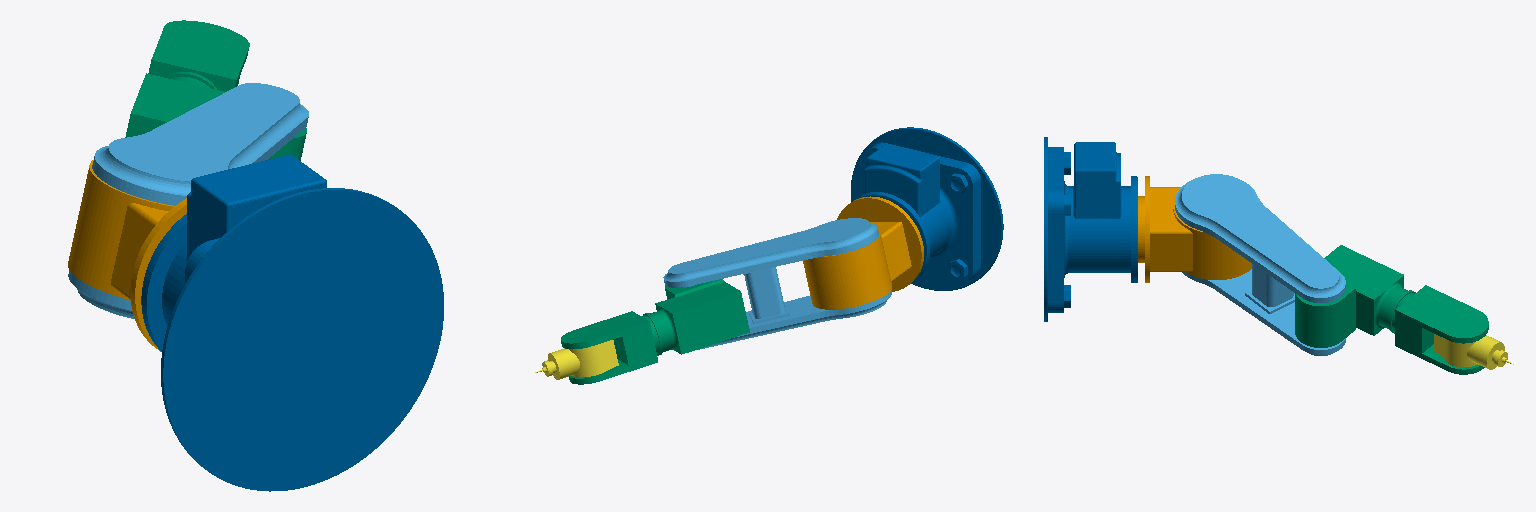
The robot description file, URDF, robot "Articulated":
<?xml version='1.0' encoding='utf-8'?>
<robot name="Articulated">
    <link name="link_1">
        <inertial>
            <origin xyz="3.495344808922743e-08 9.880377430014102e-08 0.1130756849498058" rpy="0.0 -0.0 0.0" />
            <mass value="113.94005650792363" />
            <inertia ixx="2.220629965866795" iyy="2.4065409609491546" izz="0.8594958574300129" ixy="-0.04817974237801331" iyz="-5.555259629943701e-07" ixz="-2.643146005475136e-07" />
        </inertial>
        <visual name="link_1_visual">
            <origin xyz="-1.5341806263568187e-17 1.3051466232121905e-17 -0.10000000000000007" rpy="1.5707963267948966 5.949048110932312e-17 -2.9025001372209416" />
            <geometry>
                <mesh filename="meshes/link_1.stl" scale="0.001 0.001 0.001" />
            </geometry>
        </visual>
        <collision name="link_1_collision">
            <origin xyz="-1.5341806263568187e-17 1.3051466232121905e-17 -0.10000000000000007" rpy="1.5707963267948966 5.949048110932312e-17 -2.9025001372209416" />
            <geometry>
                <mesh filename="meshes/link_1.stl" scale="0.001 0.001 0.001" />
            </geometry>
        </collision>
    </link>
    <link name="link_2">
        <inertial>
            <origin xyz="0.12394880432889308 -0.12010550092443957 0.12337011299501326" rpy="0.0 -0.0 0.0" />
            <mass value="121.82315674461331" />
            <inertia ixx="3.069328897167779" iyy="3.9094186798659414" izz="4.769499718861205" ixy="2.080406694264372" iyz="0.5105456213817852" ixz="-0.4450992457085139" />
        </inertial>
        <visual name="link_2_visual">
            <origin xyz="-0.021313890000000037 0.0 0.08743980000000003" rpy="-1.758656259148855 -0.14877926232668687 0.9085276867799419" />
            <geometry>
                <mesh filename="meshes/link_2.stl" scale="0.001 0.001 0.001" />
            </geometry>
        </visual>
        <collision name="link_2_collision">
            <origin xyz="-0.021313890000000037 0.0 0.08743980000000003" rpy="-1.758656259148855 -0.14877926232668687 0.9085276867799419" />
            <geometry>
                <mesh filename="meshes/link_2.stl" scale="0.001 0.001 0.001" />
            </geometry>
        </collision>
    </link>
    <link name="link_2-3">
        <inertial>
            <origin xyz="-0.013743170672768912 0.003349966242198459 -0.18174612549061123" rpy="0.0 -0.0 0.0" />
            <mass value="94.67157069552944" />
            <inertia ixx="2.242235231243768" iyy="2.870597797457833" izz="1.0445017784058268" ixy="0.1628420865218435" iyz="-0.2157283597478586" ixz="0.8850209404097951" />
        </inertial>
        <visual name="link_2-3_visual">
            <origin xyz="-0.16656904504598624 0.04060205175566677 -0.013991557131912203" rpy="-1.5707963267948966 0.9213041550559807 -0.2390925163688523" />
            <geometry>
                <mesh filename="meshes/link_2-3.stl" scale="0.001 0.001 0.001" />
            </geometry>
        </visual>
        <collision name="link_2-3_collision">
            <origin xyz="-0.16656904504598624 0.04060205175566677 -0.013991557131912203" rpy="-1.5707963267948966 0.9213041550559807 -0.2390925163688523" />
            <geometry>
                <mesh filename="meshes/link_2-3.stl" scale="0.001 0.001 0.001" />
            </geometry>
        </collision>
    </link>
    <link name="ende-4">
        <inertial>
            <origin xyz="0.013680527067618088 -0.018542285253321893 0.003334706718673992" rpy="0.0 -0.0 -6.147358833212049e-50" />
            <mass value="9.195295482799422" />
            <inertia ixx="0.037452839833601814" iyy="0.02820094948083307" izz="0.05115066079451583" ixy="0.014617439766931644" iyz="0.003563080839083854" ixz="-0.003549834488654535" />
        </inertial>
        <visual name="ende-4_visual">
            <origin xyz="6.956113196565638e-10 -9.873556905404257e-10 2.858781229519991e-09" rpy="-2.9498530747037486 -0.14371937367248364 -0.9351484865679631" />
            <geometry>
                <mesh filename="meshes/ende-4.stl" scale="0.001 0.001 0.001" />
            </geometry>
        </visual>
        <collision name="ende-4_collision">
            <origin xyz="6.956113196565638e-10 -9.873556905404257e-10 2.858781229519991e-09" rpy="-2.9498530747037486 -0.14371937367248364 -0.9351484865679631" />
            <geometry>
                <mesh filename="meshes/ende-4.stl" scale="0.001 0.001 0.001" />
            </geometry>
        </collision>
    </link>
    <link name="base_link">
        <inertial>
            <origin xyz="1.1987934518938967e-08 0.09320962323251944 0.031298512335857495" rpy="0.0 0.0 0.0" />
            <mass value="157.3864156158711" />
            <inertia ixx="3.3328383664744132" iyy="3.9155307714859795" izz="2.6703235238895724" ixy="-1.5509230087563953e-07" iyz="-0.3217059613737335" ixz="-1.63259014799315e-07" />
        </inertial>
        <visual name="base_link_visual">
            <origin xyz="0.0 0.0 0.0" rpy="0.0 0.0 0.0" />
            <geometry>
                <mesh filename="meshes/base_link.stl" scale="0.001 0.001 0.001" />
            </geometry>
        </visual>
        <collision name="base_link_collision">
            <origin xyz="0.0 0.0 0.0" rpy="0.0 0.0 0.0" />
            <geometry>
                <mesh filename="meshes/base_link.stl" scale="0.001 0.001 0.001" />
            </geometry>
        </collision>
    </link>
    <joint name="base_link_Revolute-1" type="continuous">
        <origin xyz="0.0 0.28 0.0" rpy="-1.5707963267948966 -0.0 0.0" />
        <parent link="base_link" />
        <child link="link_1" />
        <axis xyz="0.0 0.0 1.0" />
    </joint>
    <joint name="link_1_Revolute-2" type="continuous">
        <origin xyz="0.02131389 -0.08743980000000001 0.23600000000000002" rpy="-1.5707963267948966 -0.0 0.0" />
        <parent link="link_1" />
        <child link="link_2" />
        <axis xyz="0.236821 0.0 -0.971553" />
    </joint>
    <joint name="link_2_Revolute-3" type="continuous">
        <origin xyz="0.3575372 -0.31295990999999995 0.17978668" rpy="-1.5707963267948966 -4.163336342344337e-17 1.282927060844254e-49" />
        <parent link="link_2" />
        <child link="link_2-3" />
        <axis xyz="-0.23682099999999998 -0.971553 6.573103172868855e-18" />
    </joint>
    <joint name="link_2-3_Revolute-4" type="continuous">
        <origin xyz="0.13897151000000002 -0.033875010000000004 -0.42811489000000025" rpy="1.5707963267948966 -7.979727989493314e-17 1.3877787807814457e-17" />
        <parent link="link_2-3" />
        <child link="ende-4" />
        <axis xyz="-0.23682099999999998 -2.4649136898258207e-17 0.9715530000000002" />
    </joint>
</robot>

--- What the picture shows (computed from the rendered views, not written in the file) ---
The picture shows the robot from 3 angles, left to right: view 1: azimuth 30°, elevation 25°; view 2: azimuth 150°, elevation 25°; view 3: azimuth 270°, elevation 25°; orthographic projection.
Model Articulated with 5 links and 4 joints (4 continuous), rooted at base_link, posed all joints at 0.
Links seen in each view (by area): view 1: base_link, link_2, link_1, link_2-3; view 2: base_link, link_2, link_2-3, link_1, ende-4; view 3: link_2, base_link, link_2-3, link_1, ende-4.
Boxes of the visible links, x1,y1,x2,y2 form: base_link: (141, 154, 443, 491); link_2: (68, 83, 308, 318); link_1: (68, 160, 186, 351); link_2-3: (125, 20, 306, 160); base_link: (851, 127, 1003, 290); link_2: (663, 218, 891, 349); link_2-3: (561, 279, 749, 384); link_1: (803, 196, 923, 309); ende-4: (535, 340, 618, 379); link_2: (1175, 174, 1345, 355); base_link: (1044, 137, 1137, 321); link_2-3: (1295, 245, 1488, 374); link_1: (1138, 176, 1251, 282); ende-4: (1434, 334, 1513, 369).
Size in the robot's own frame: 0.9098 by 1.41 by 0.555 metres.
Meshes: 5 distinct files referenced, 5 mesh visuals loaded (5 binary STL).
